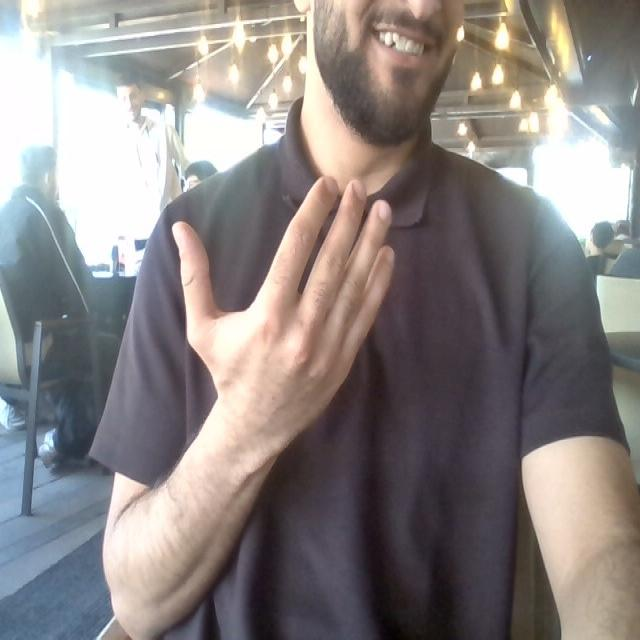Hand: (173, 178, 393, 447)
